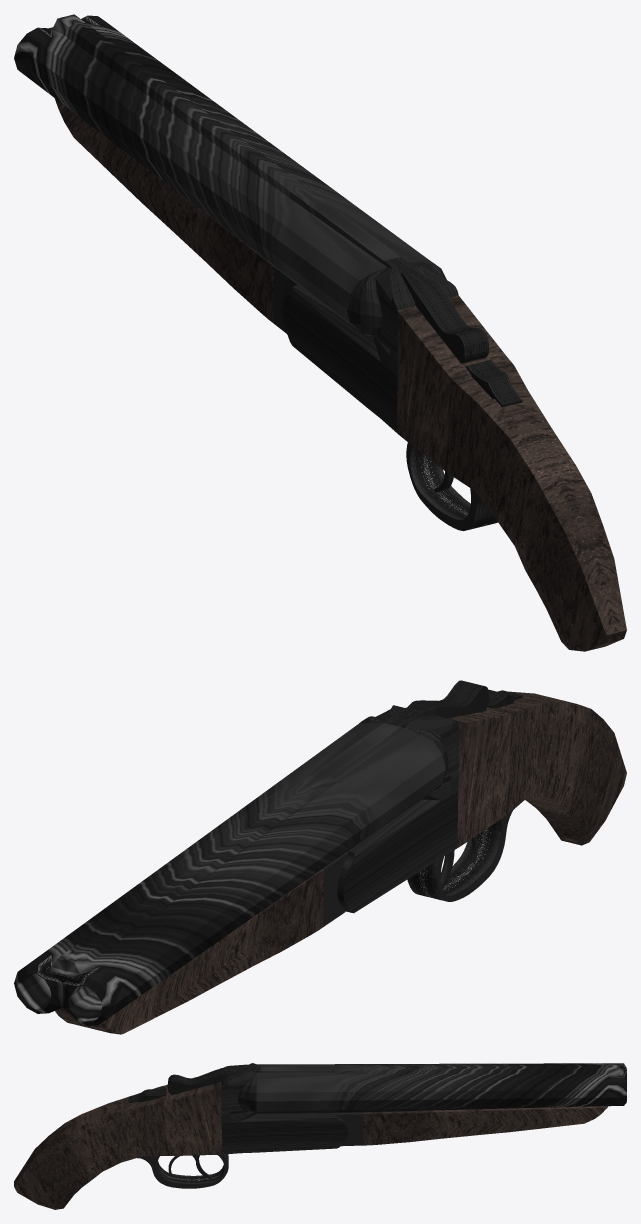
Rendered from shotgun.fbx.
3 renders of one model, top to bottom at view 1: azimuth 30°, elevation 25°; view 2: azimuth 150°, elevation 25°; view 3: azimuth 270°, elevation 25°, orthographic. The views are drawn at different scales.
Parts seen in each view (by area): view 1: Butt, Barrels; view 2: Barrels, Butt; view 3: Barrels, Butt.
Boxes of the visible parts, x1,y1,x2,y2 form: Butt: (282, 257, 626, 651); Barrels: (14, 14, 431, 333); Barrels: (14, 722, 445, 1034); Butt: (337, 680, 626, 913); Barrels: (256, 1063, 626, 1146); Butt: (14, 1063, 348, 1209).
Bounding box in the file's own units: 46.33 × 114 × 448.
2 materials, 2 textured.
